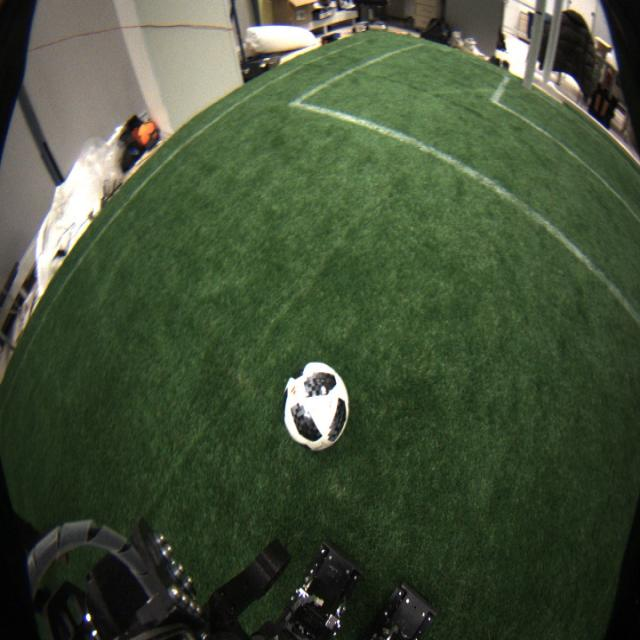ball: (281, 362, 350, 454)
goalpost: (523, 1, 547, 90)
